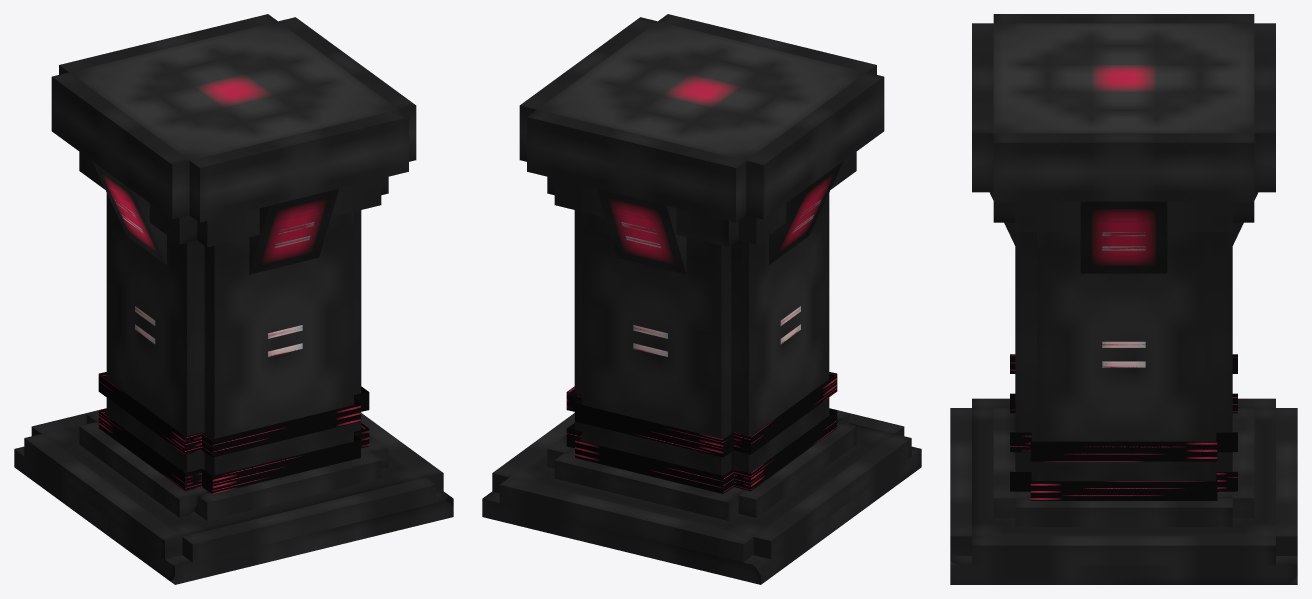
File: gothic-pedestal-legacy.obj
3 renders of one model, left to right at view 1: azimuth 30°, elevation 25°; view 2: azimuth 150°, elevation 25°; view 3: azimuth 270°, elevation 25°, orthographic. The views are drawn at different scales.
Visible parts, largest first — view 1: cube; view 2: cube; view 3: cube.
Part boxes in pixels (bbox=[...]): cube: bbox=[14, 14, 453, 584]; cube: bbox=[482, 14, 921, 584]; cube: bbox=[950, 14, 1297, 584].
Bounding box in the file's own units: 1 × 1.38 × 1.
Materials: 3 (3 with a texture image).
